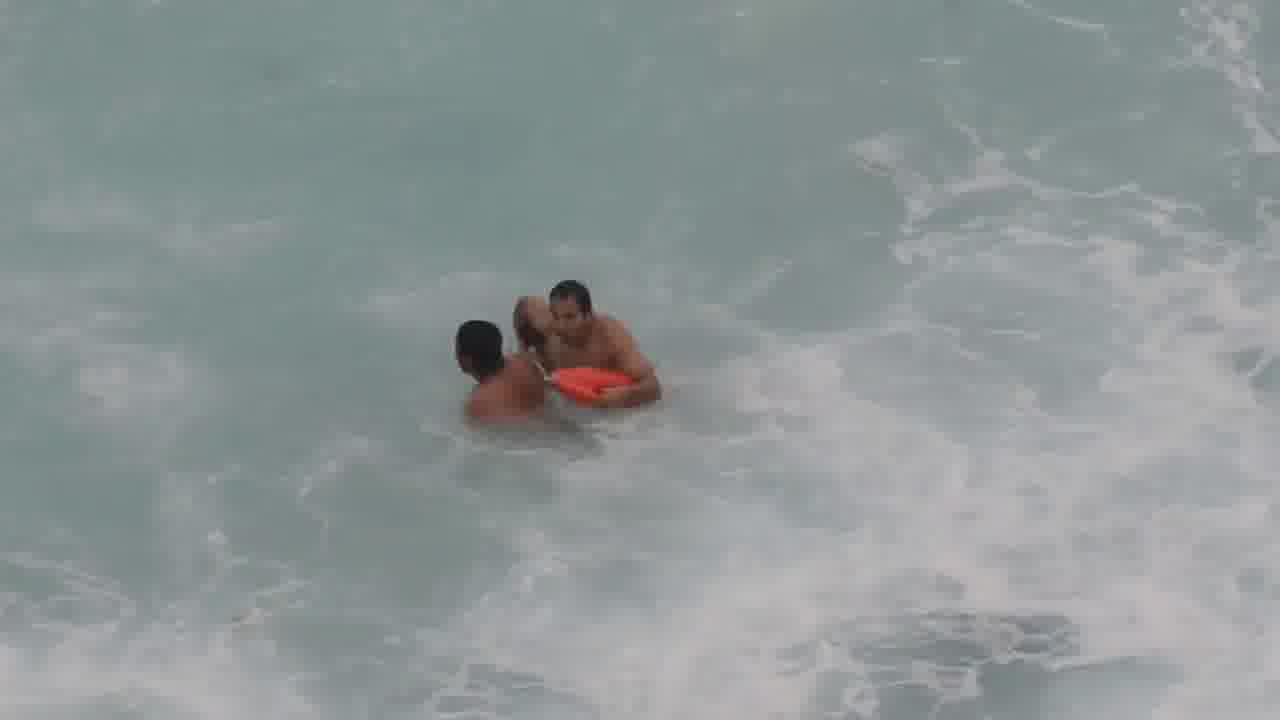human: (505, 276, 673, 411), (435, 312, 552, 436)
